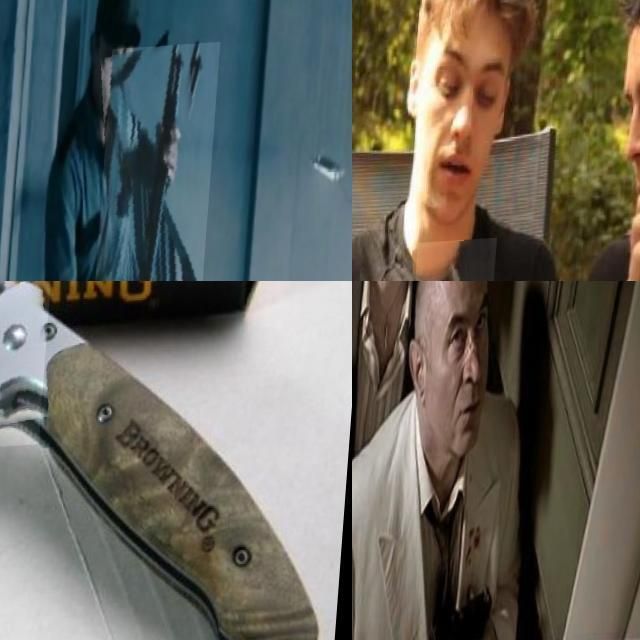-: (0, 281, 162, 465), (412, 240, 501, 281)
gun-knife-thesis - v11 Yolov5 augmented: (93, 46, 222, 281), (352, 281, 397, 458)
